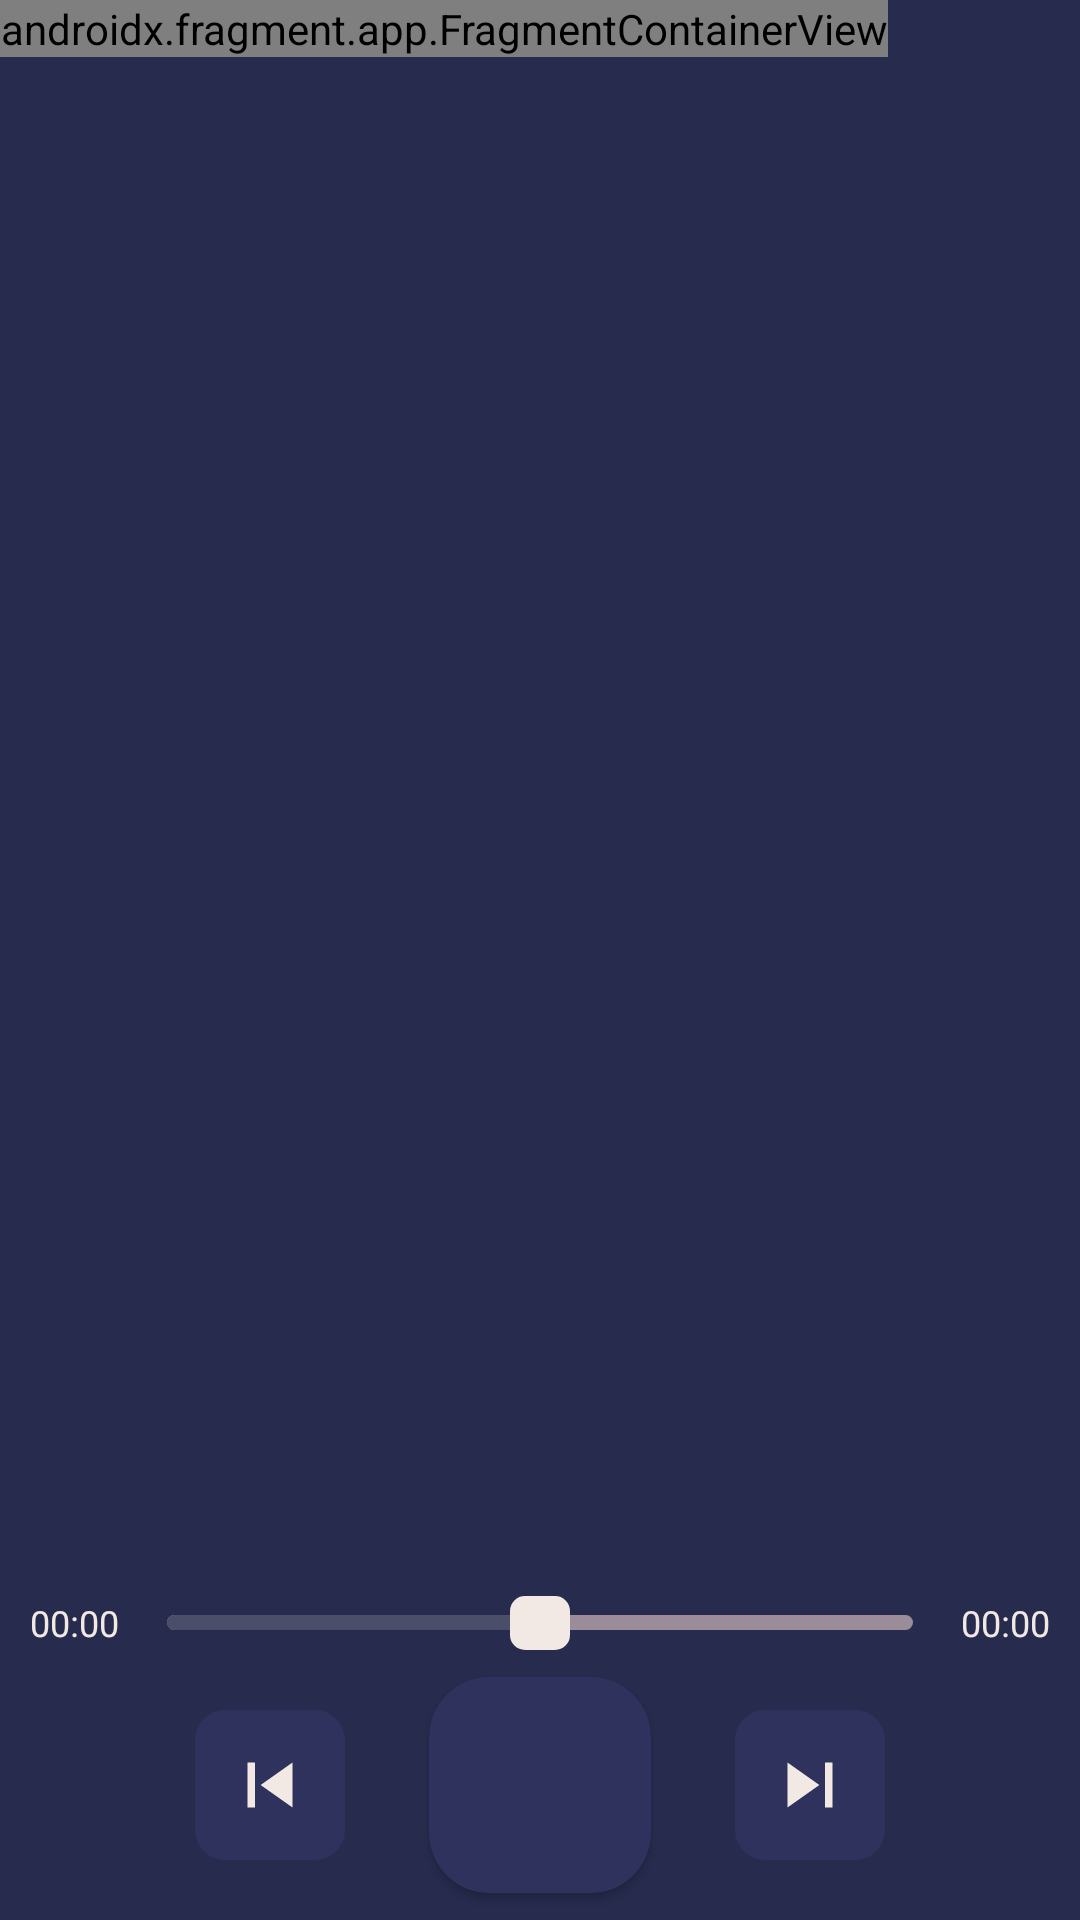

Screen size 1080 x 1920. Icon name, then its center in pixels as point (x, y):
next: point (810, 1785)
previous: point (270, 1785)
